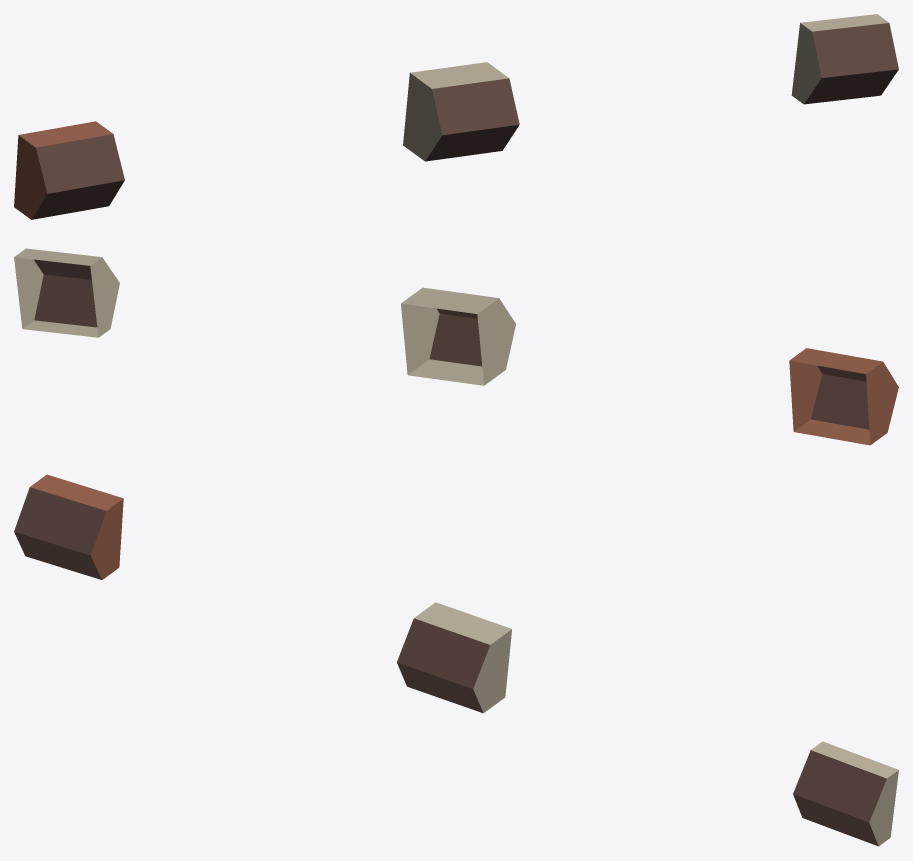
The model's file is island_bldg_04_09.obj.
The picture shows the model from 3 angles, top to bottom: view 1: azimuth 30°, elevation 25°; view 2: azimuth 150°, elevation 25°; view 3: azimuth 330°, elevation 25°; orthographic projection.
Parts seen in each view (by area): view 1: island_bldg_04_09; view 2: island_bldg_04_09; view 3: island_bldg_04_09.
Part boxes in pixels (<box>): island_bldg_04_09: <box>14,14,898,219</box>; island_bldg_04_09: <box>14,248,898,445</box>; island_bldg_04_09: <box>14,474,898,846</box>.
Bounding box in the file's own units: 178 × 31.64 × 13.06.
